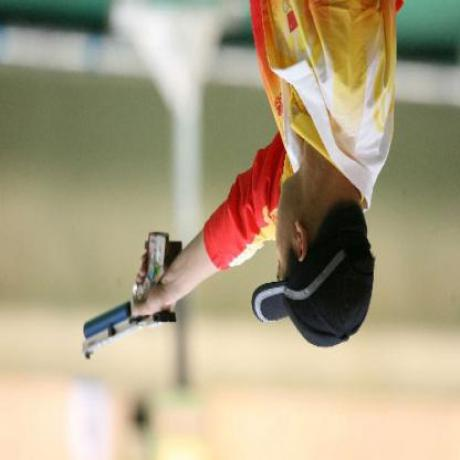1: (136, 0, 402, 345)
weapon: (72, 223, 190, 368)
